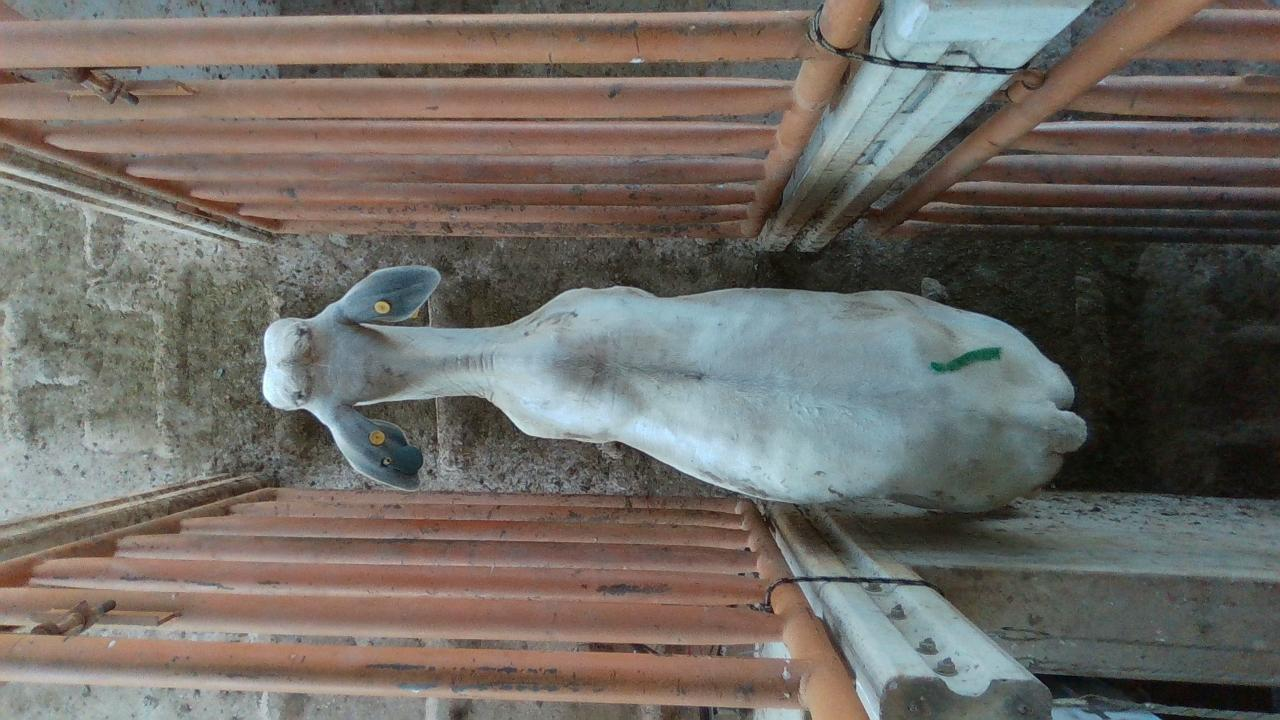cattle: (260, 262, 1088, 516)
